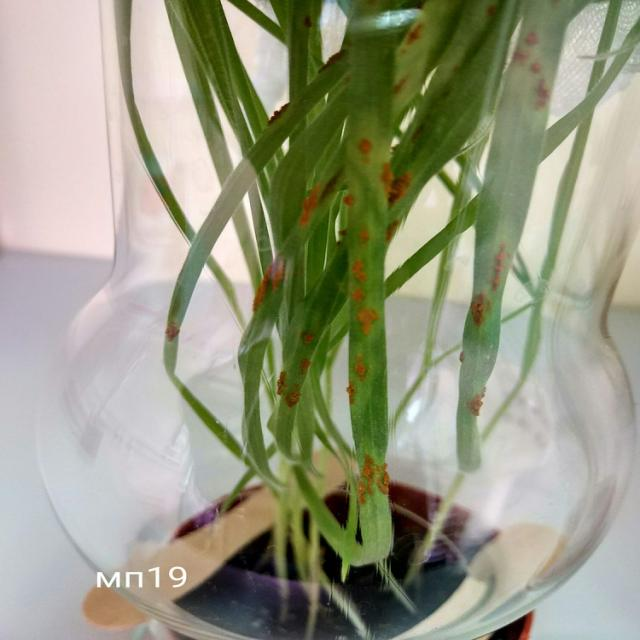wheat-stemrust: (349, 98, 395, 542), (460, 230, 517, 431), (491, 21, 568, 158), (269, 306, 329, 442)
